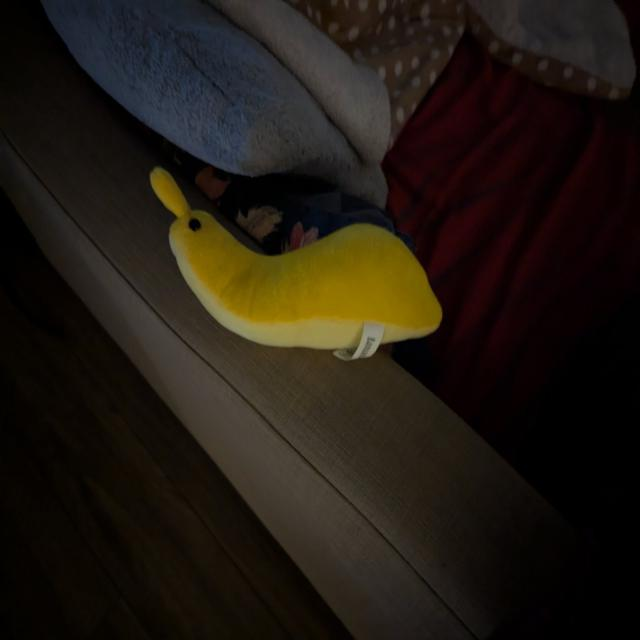banana-slug-toy: (140, 155, 459, 375)
